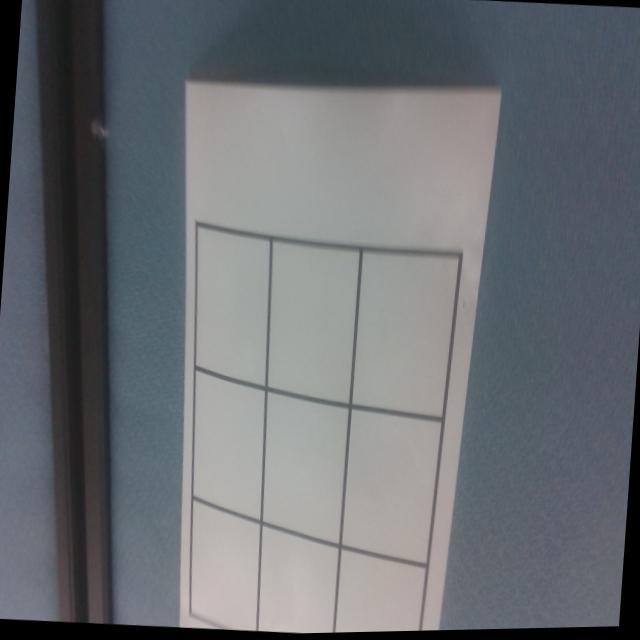null: (351, 246, 460, 421), (261, 237, 360, 408), (342, 404, 443, 564), (187, 222, 274, 391), (256, 388, 348, 545), (185, 365, 269, 522), (183, 497, 264, 631), (252, 520, 341, 636), (335, 546, 426, 634)
table: (163, 209, 468, 637)
